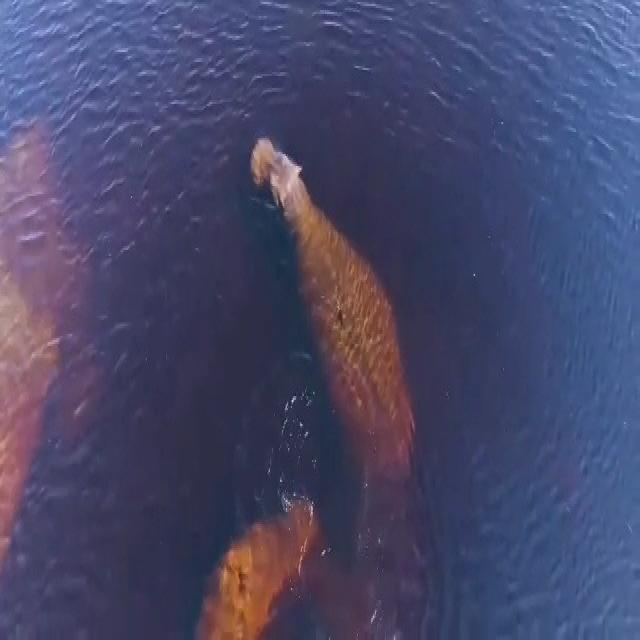Hippopotamus: (248, 128, 426, 468), (198, 481, 326, 640)
